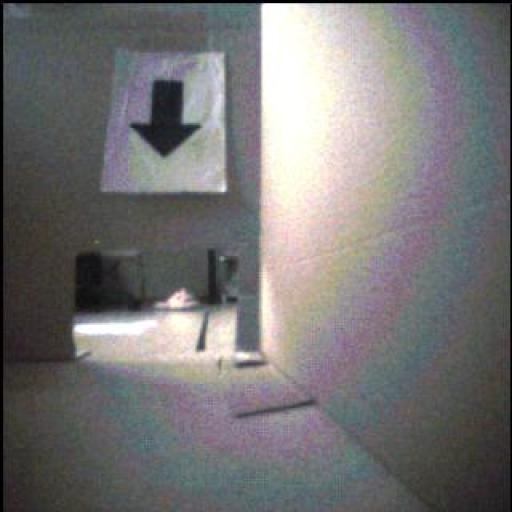arrow: (132, 81, 201, 158)
